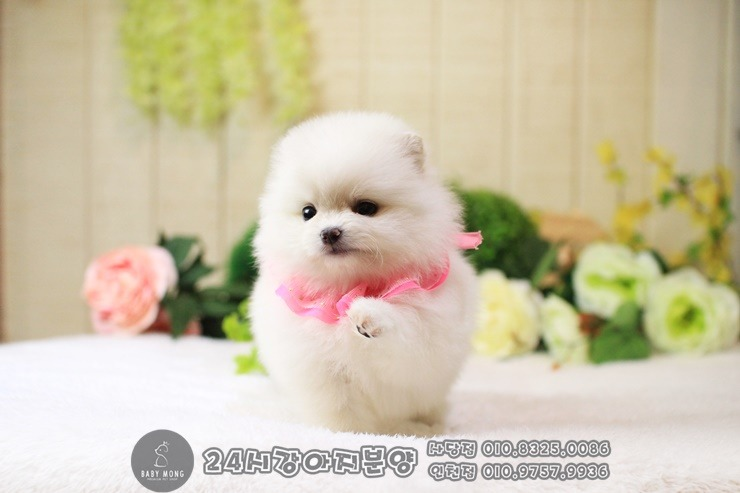pomeranian: (240, 106, 487, 439)
